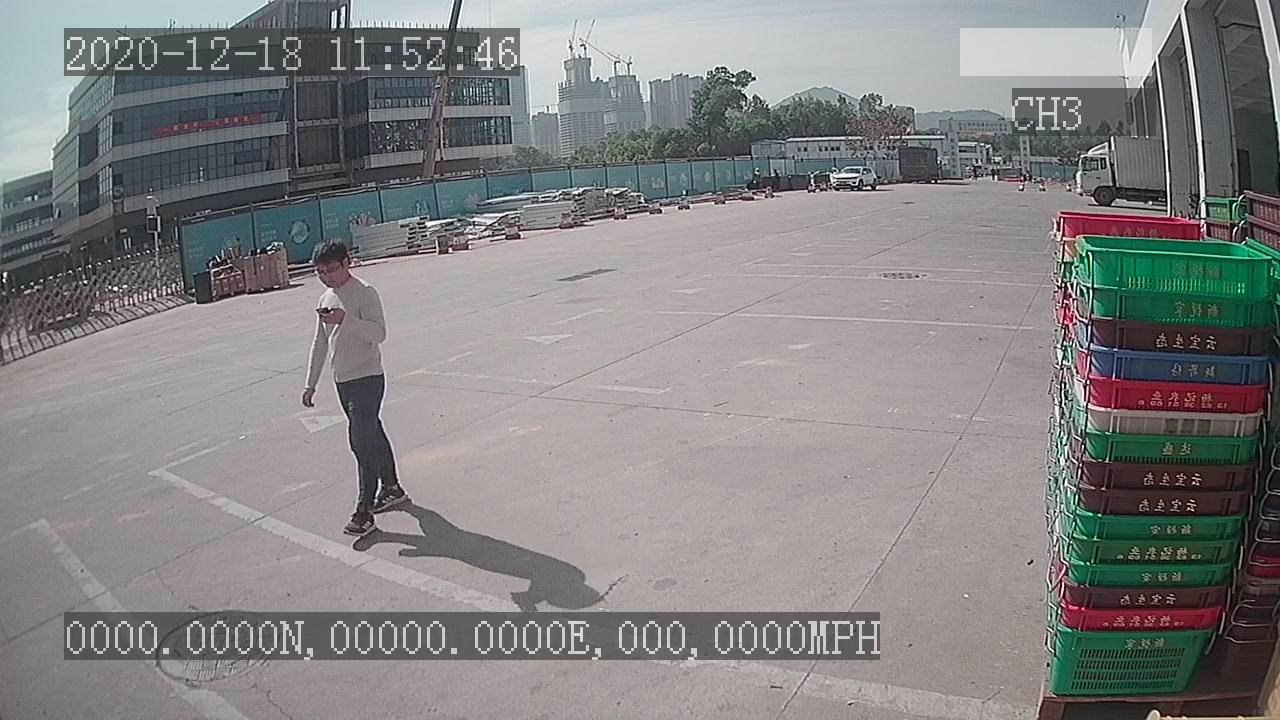person: (290, 231, 413, 545)
